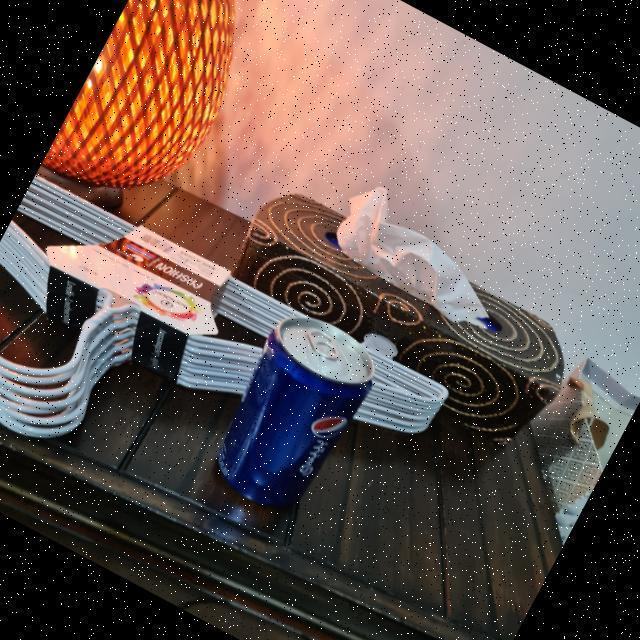can: (193, 296, 390, 528)
